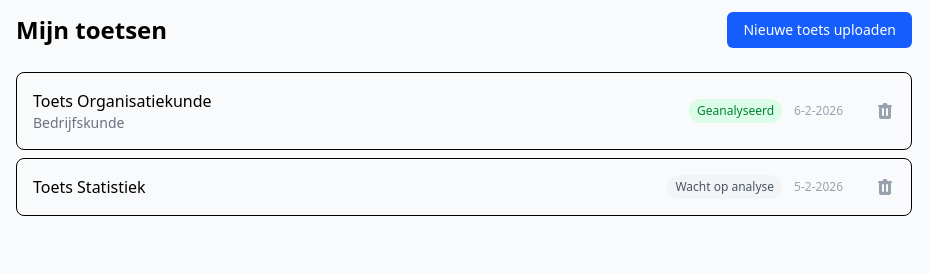
it: Home — exam deletion › T12.6: shows error message when deletion fails
expect the text "Toets Organisatiekunde" is shown: met, box [33,89,212,113]
Step 1. Click the button titled "Toets verwijderen" → (885, 111), box [859,85,911,137]
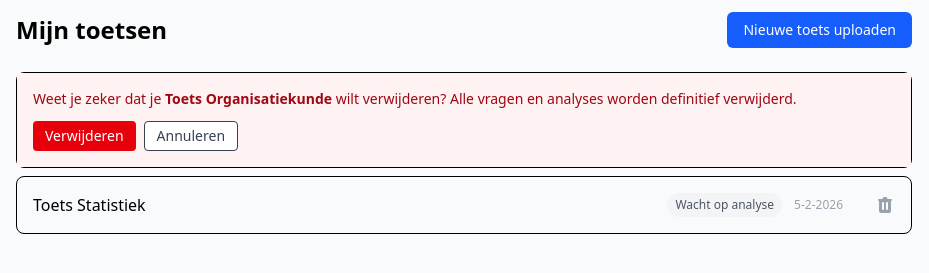
Step 2. Click the button "Verwijderen" → (84, 136), box [33,121,136,151]
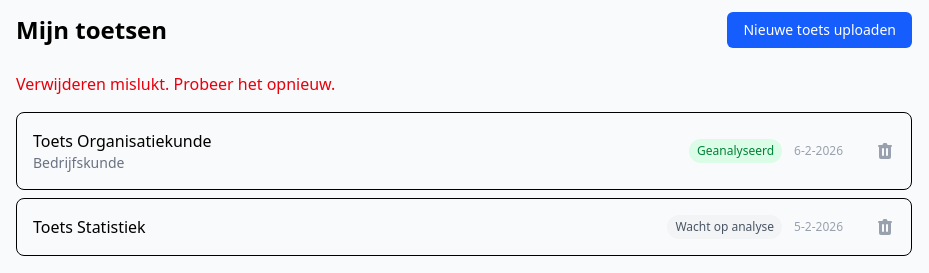
expect the text "Toets Organisatiekunde" is shown: met, box [33,129,212,153]
expect the text "Verwijderen mislukt. Probeer het opnieuw." is shown: met, box [16,73,335,95]
